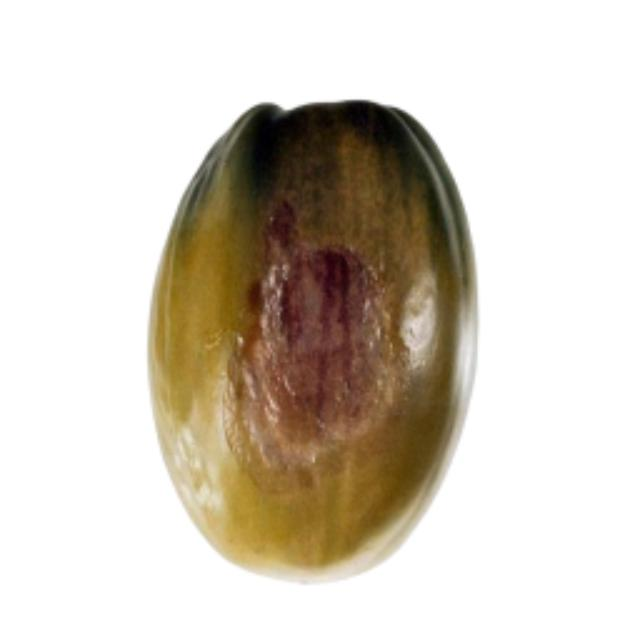defect: (141, 95, 484, 592)
